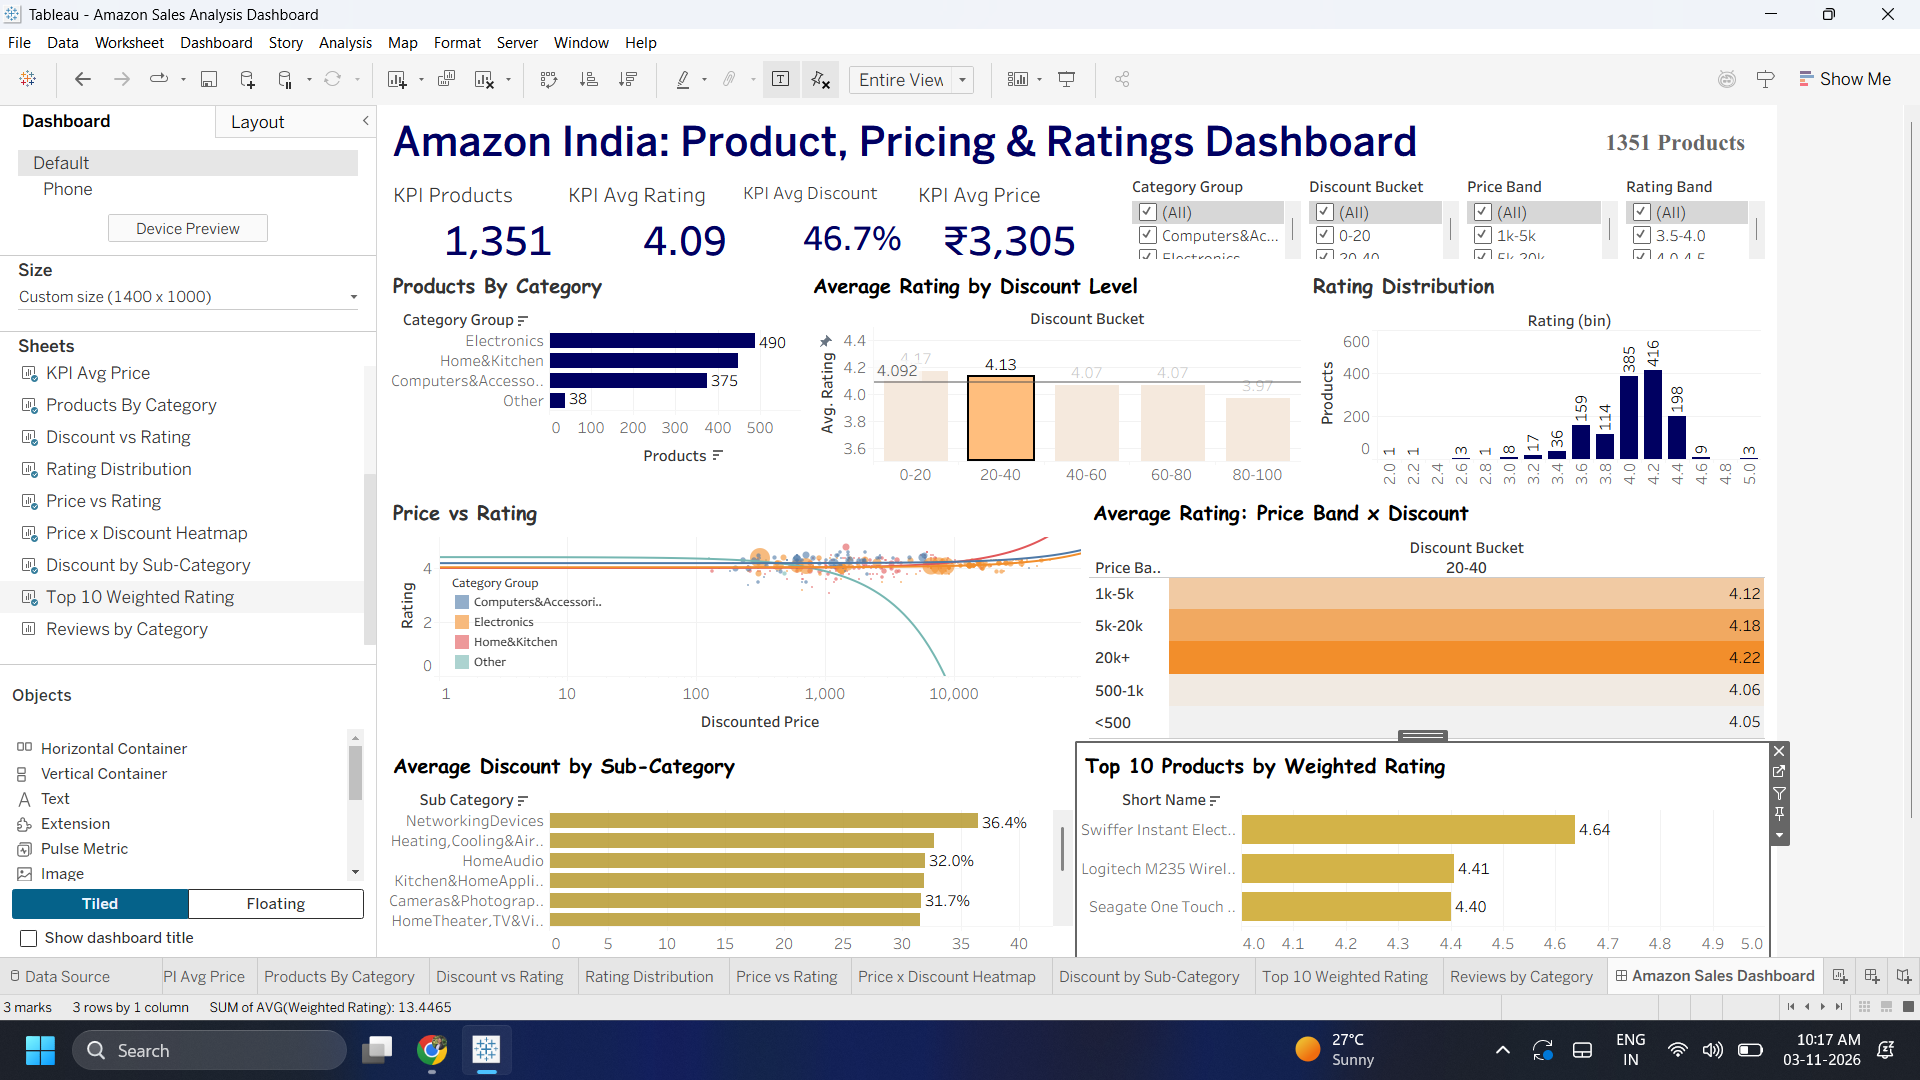

This screenshot's page, from the dashboard's own definition file:
{"tool":"tableau","page":{"name":"Amazon Sales Dashboard","canvas":[1400,1000],"ordinal":0},"visuals":[{"type":"text","box":[8,8,1213,59]},{"type":"text","box":[1221,8,171,59]},{"type":"worksheet","title":"KPI Products","mark":"Automatic","box":[8,67,175,91]},{"type":"worksheet","title":"KPI Avg Rating","mark":"Automatic","box":[183,67,175,91]},{"type":"worksheet","title":"KPI Avg Discount ","mark":"Automatic","box":[358,67,175,91]},{"type":"worksheet","title":"KPI Avg Price","mark":"Automatic","box":[533,67,175,91]},{"type":"filter","title":"Price vs Rating","param":"[federated.0980d4p0rky9n915e8mv21knjjbg].[none:Calculation_1494022736744448:nk]","box":[751,67,177,91]},{"type":"filter","title":"Price vs Rating","param":"[federated.0980d4p0rky9n915e8mv21knjjbg].[none:discount_bucket:nk]","box":[928,67,158,91]},{"type":"filter","title":"Price vs Rating","param":"[federated.0980d4p0rky9n915e8mv21knjjbg].[none:price_band:nk]","box":[1086,67,159,91]},{"type":"filter","title":"Price vs Rating","param":"[federated.0980d4p0rky9n915e8mv21knjjbg].[none:rating_band:nk]","box":[1245,67,147,91]},{"type":"worksheet","title":"Products By Category","mark":"Automatic","rows":["Calculation_1494022736744448"],"cols":["Calculation_1494022738333697"],"box":[8,158,420,227]},{"type":"worksheet","title":"Discount vs Rating","mark":"Automatic","rows":["rating"],"cols":["discount_bucket"],"box":[428,158,500,227]},{"type":"worksheet","title":"Rating Distribution","mark":"Bar","rows":["Calculation_1494022738333697"],"cols":["Rating (bin)"],"box":[928,158,460,227]},{"type":"worksheet","title":"Price vs Rating","mark":"Circle","rows":["rating"],"cols":["discounted_price"],"box":[8,385,700,253]},{"type":"worksheet","title":"Price x Discount Heatmap","mark":"Square","rows":["price_band"],"cols":["discount_bucket"],"box":[708,385,684,253]},{"type":"legend","title":"Price vs Rating","param":"[federated.0980d4p0rky9n915e8mv21knjjbg].[none:Calculation_1494022736744448:nk]","box":[75,470,158,98]},{"type":"worksheet","title":"Discount by Sub-Category","mark":"Automatic","rows":["sub_category"],"cols":["discount_percentage"],"box":[8,638,692,250]},{"type":"worksheet","title":"Top 10 Weighted Rating","mark":"Automatic","rows":["Calculation_1494022738530306"],"cols":["weighted_rating"],"box":[700,638,692,250]},{"type":"text","box":[8,888,1384,104]}]}

Visuals, with their boxes on the page's 1400x1000 design canvas (x1, y1, x2, y2). These are canvas units, not pixel positions in the 1920x1080 screenshot, which may show the page scaled, cropped or inside an application window:
text: left=8, top=8, right=1221, bottom=67
text: left=1221, top=8, right=1392, bottom=67
"KPI Products" worksheet: left=8, top=67, right=183, bottom=158
"KPI Avg Rating" worksheet: left=183, top=67, right=358, bottom=158
"KPI Avg Discount " worksheet: left=358, top=67, right=533, bottom=158
"KPI Avg Price" worksheet: left=533, top=67, right=708, bottom=158
"Price vs Rating" filter: left=751, top=67, right=928, bottom=158
"Price vs Rating" filter: left=928, top=67, right=1086, bottom=158
"Price vs Rating" filter: left=1086, top=67, right=1245, bottom=158
"Price vs Rating" filter: left=1245, top=67, right=1392, bottom=158
"Products By Category" worksheet: left=8, top=158, right=428, bottom=385
"Discount vs Rating" worksheet: left=428, top=158, right=928, bottom=385
"Rating Distribution" worksheet (Bar marks): left=928, top=158, right=1388, bottom=385
"Price vs Rating" worksheet (Circle marks): left=8, top=385, right=708, bottom=638
"Price x Discount Heatmap" worksheet (Square marks): left=708, top=385, right=1392, bottom=638
"Price vs Rating" legend: left=75, top=470, right=233, bottom=568
"Discount by Sub-Category" worksheet: left=8, top=638, right=700, bottom=888
"Top 10 Weighted Rating" worksheet: left=700, top=638, right=1392, bottom=888
text: left=8, top=888, right=1392, bottom=992
